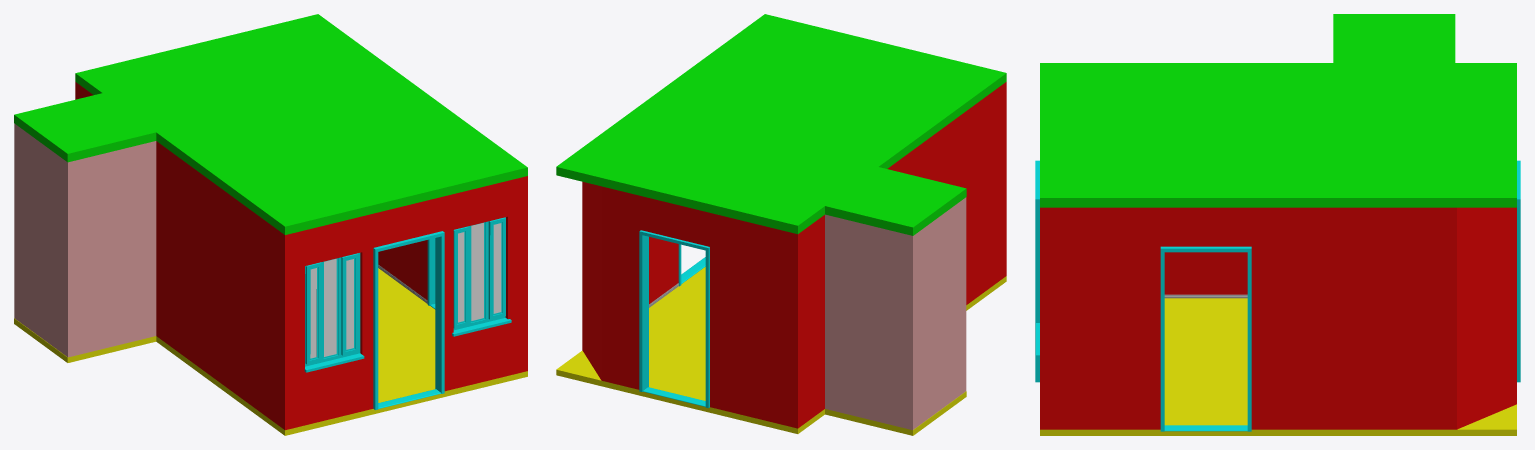
Rendered from FloorPlan501_physics.fbx.
The picture shows the model from 3 angles, left to right: view 1: azimuth 30°, elevation 25°; view 2: azimuth 150°, elevation 25°; view 3: azimuth 270°, elevation 25°; orthographic projection. The views are drawn at different scales.
Parts seen in each view (by area): view 1: FP501:Ceiling_1, FP501:Walls_1, FP501:Walls_2, FP501:Floor_1, FP501:Ceiling_2, FP501:WindowFrame_1, FP501:WindowFrame_2, FP501:DoorFrame_1, FP501:WindowPane_2, FP501:WindowPane_1, FP501:Floor_2, FP501:DoorFrame_2; view 2: FP501:Ceiling_1, FP501:Walls_1, FP501:Walls_2, FP501:Floor_1, FP501:Ceiling_2, FP501:DoorFrame_3, FP501:Floor_2; view 3: FP501:Walls_1, FP501:Ceiling_1, FP501:Floor_1, FP501:Ceiling_2, FP501:DoorFrame_2, FP501:DoorFrame_1, FP501:DoorFrame_3, FP501:Floorboard_2.
Boxes of the visible parts, x1,y1,x2,y2 form: FP501:Ceiling_1: [75, 14, 527, 234]; FP501:Walls_1: [75, 82, 527, 430]; FP501:Walls_2: [14, 123, 156, 357]; FP501:Floor_1: [156, 268, 527, 435]; FP501:Ceiling_2: [14, 93, 156, 162]; FP501:WindowFrame_1: [304, 253, 364, 372]; FP501:WindowFrame_2: [452, 217, 511, 336]; FP501:DoorFrame_1: [373, 231, 444, 410]; FP501:WindowPane_2: [458, 223, 501, 322]; FP501:WindowPane_1: [310, 259, 353, 358]; FP501:Floor_2: [14, 318, 156, 362]; FP501:DoorFrame_2: [427, 238, 435, 305]; FP501:Ceiling_1: [556, 14, 1006, 234]; FP501:Walls_1: [582, 82, 1006, 428]; FP501:Walls_2: [825, 197, 966, 430]; FP501:Floor_1: [556, 267, 1006, 433]; FP501:Ceiling_2: [825, 167, 966, 235]; FP501:DoorFrame_3: [639, 230, 709, 408]; FP501:Floor_2: [825, 391, 966, 435]; FP501:Walls_1: [1040, 207, 1516, 429]; FP501:Ceiling_1: [1040, 63, 1516, 207]; FP501:Floor_1: [1040, 298, 1516, 435]; FP501:Ceiling_2: [1333, 14, 1455, 62]; FP501:DoorFrame_2: [1160, 246, 1251, 431]; FP501:DoorFrame_1: [1035, 160, 1039, 382]; FP501:DoorFrame_3: [1517, 160, 1520, 382]; FP501:Floorboard_2: [1164, 425, 1247, 431].
Size of the model in its own units: 449 by 268 by 495.
